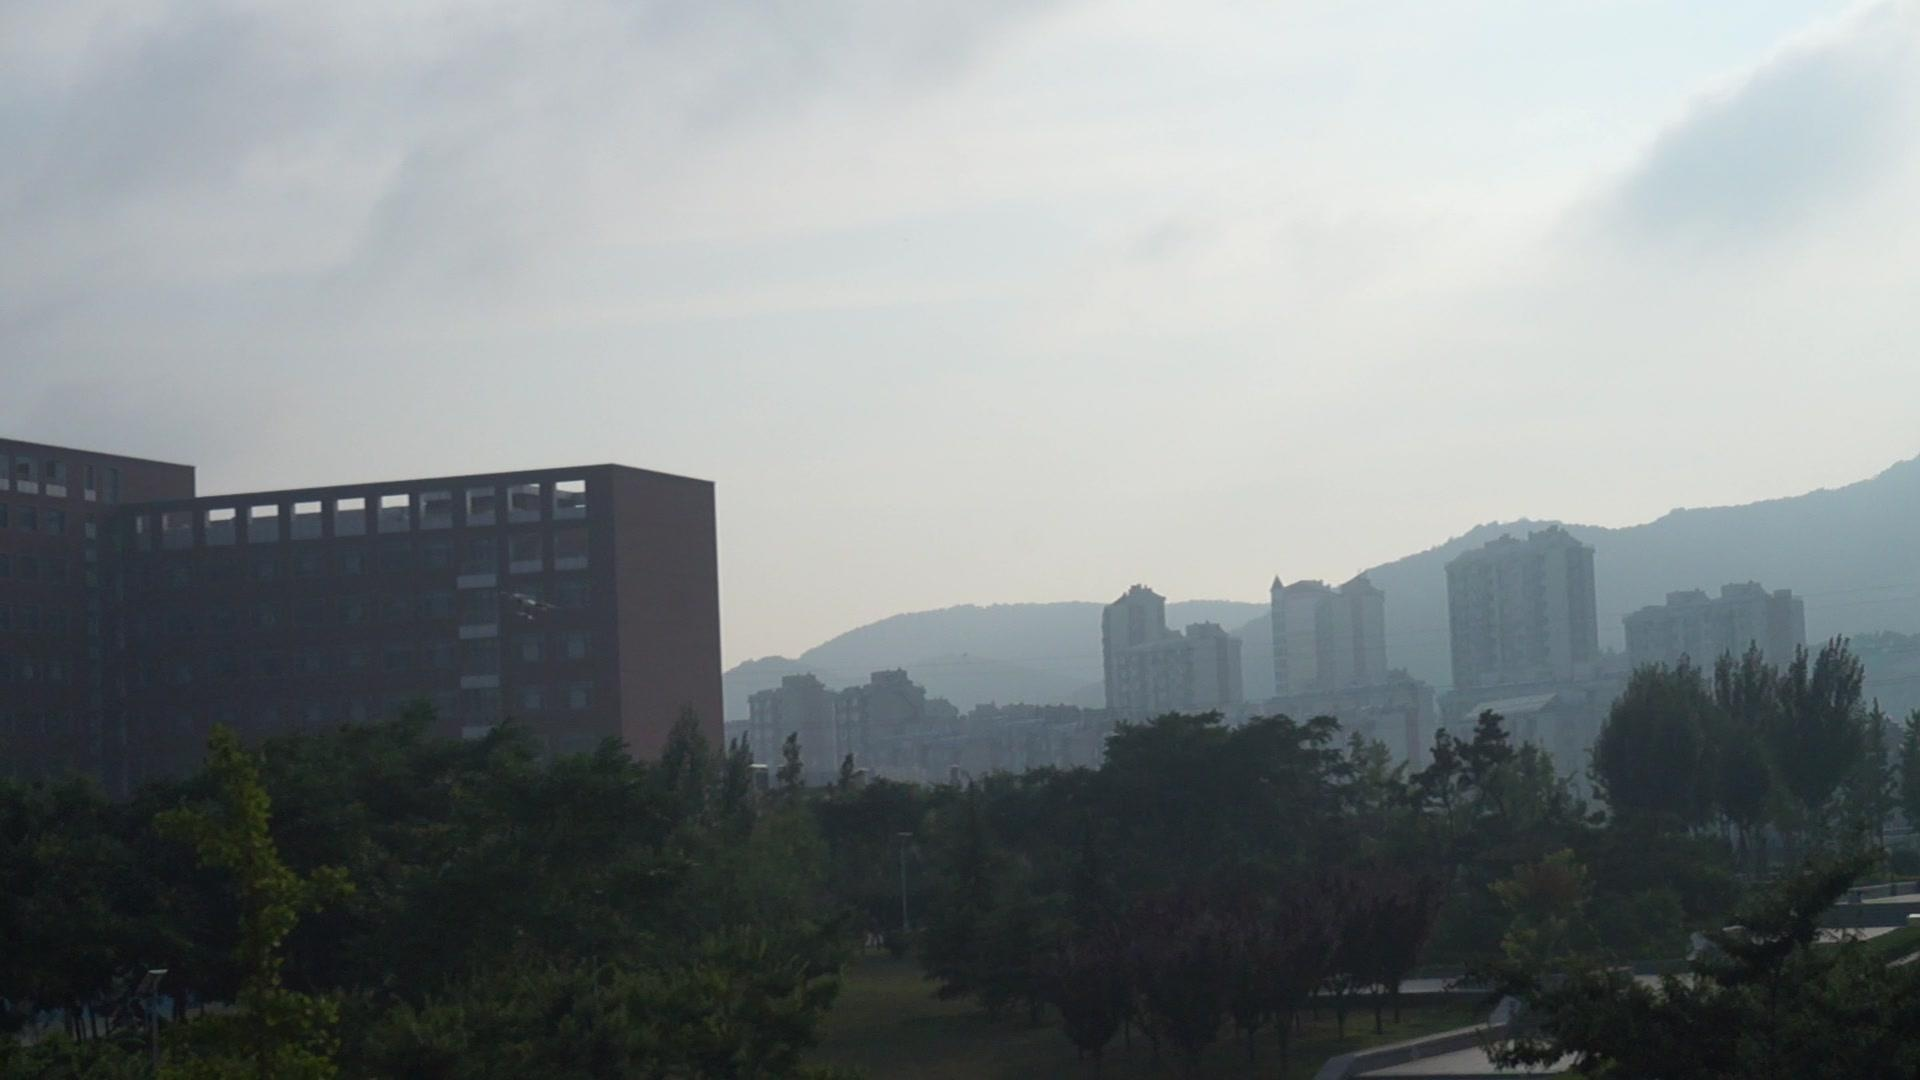UAV: (512, 593, 560, 622)
